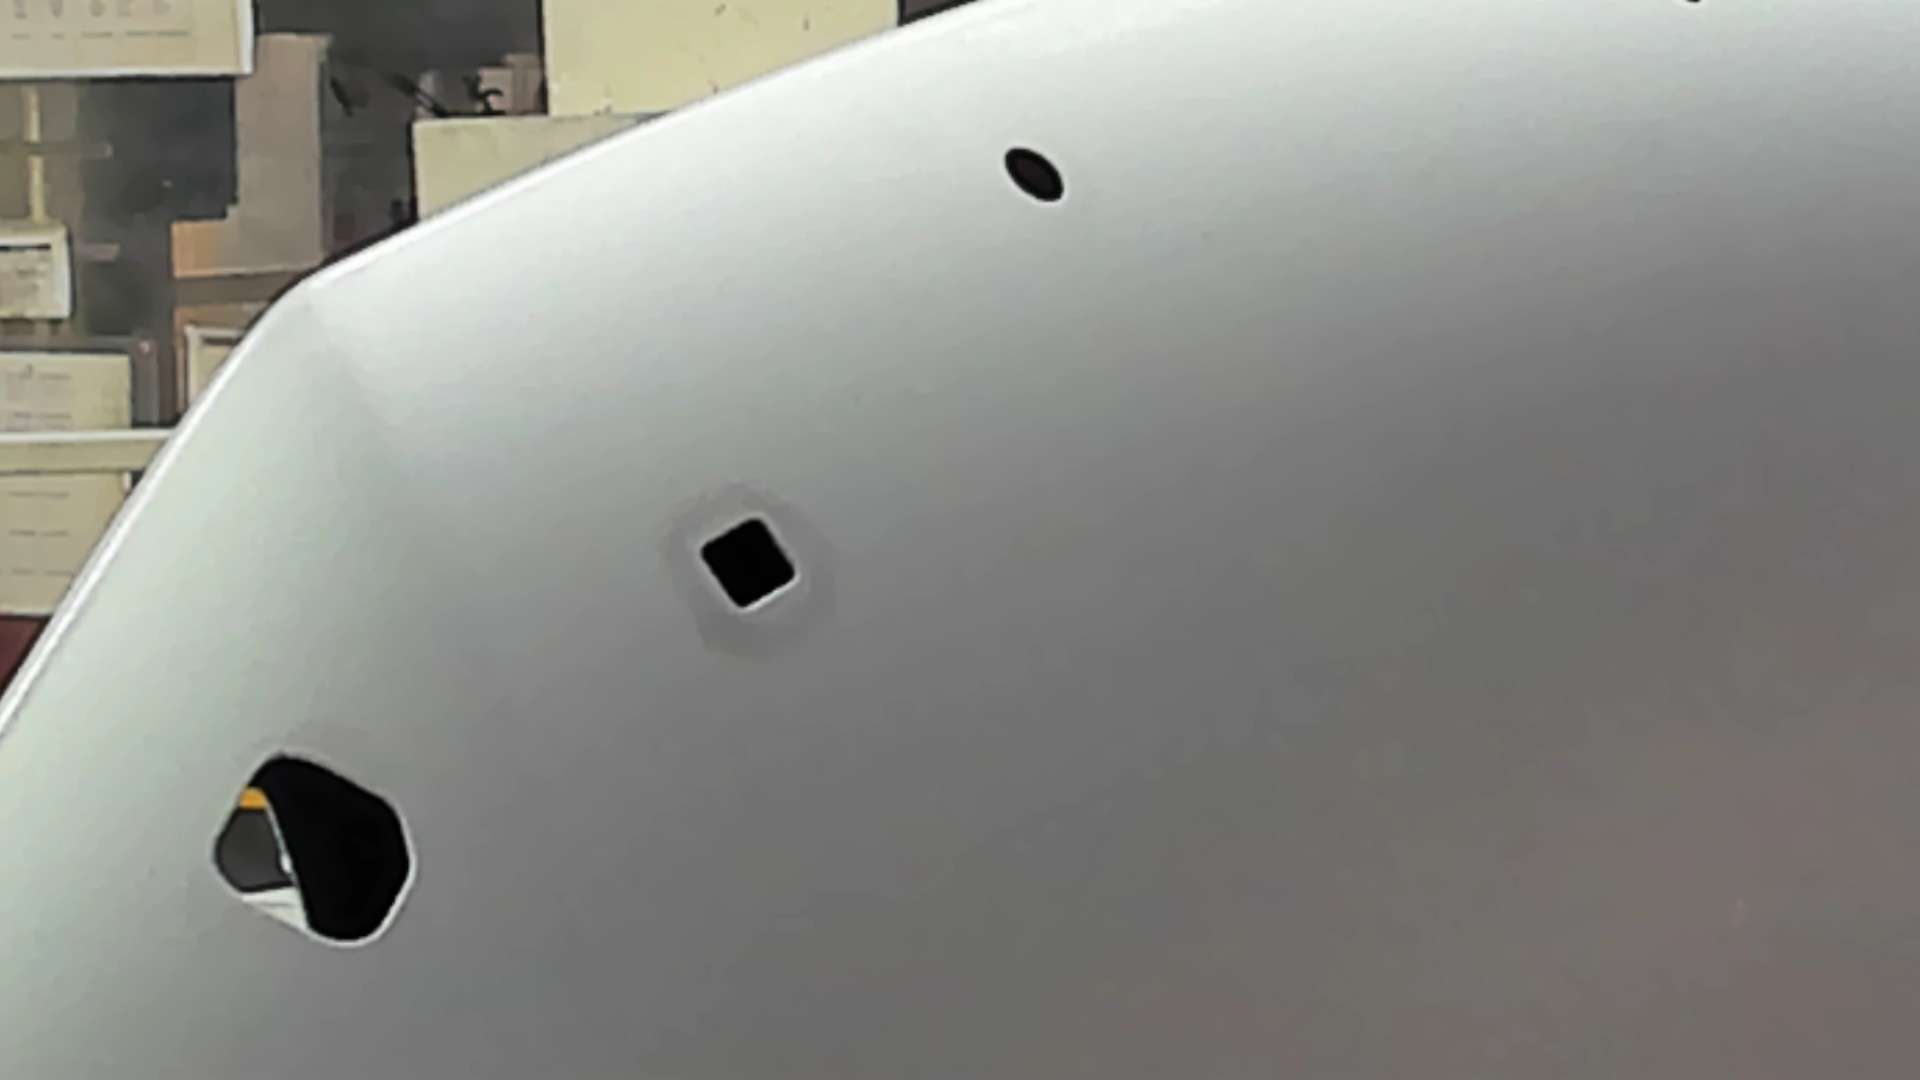capo: (806, 215, 1920, 1080)
chico: (998, 141, 1069, 208)
grande: (208, 745, 419, 953)
mediano: (691, 512, 802, 617)
